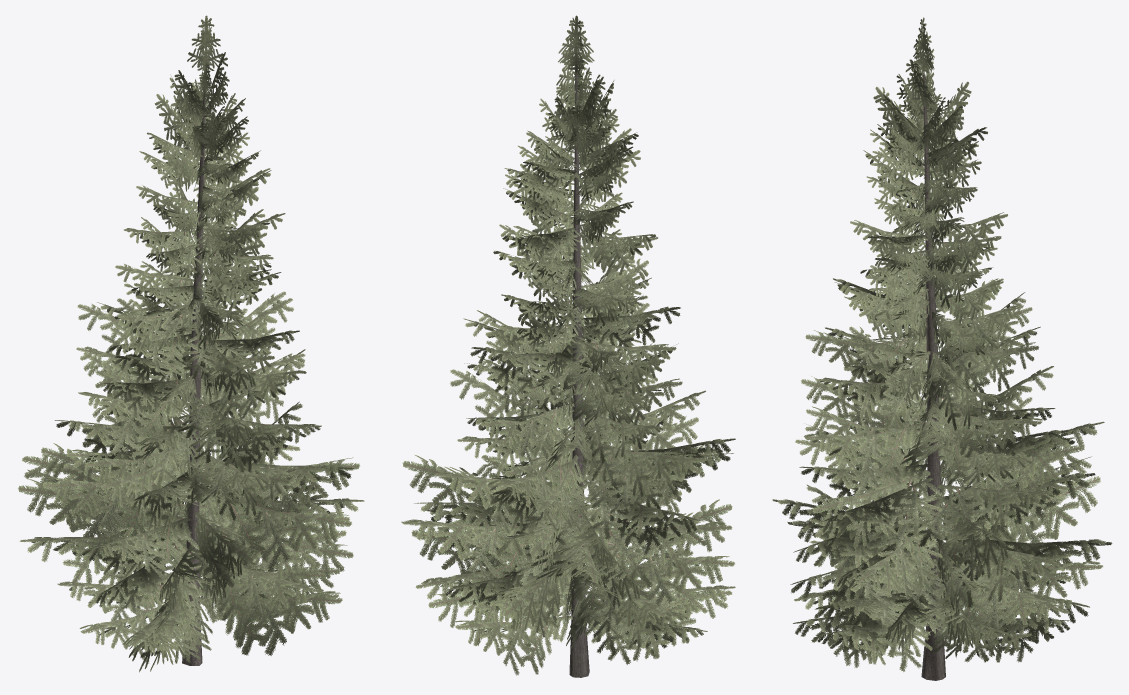
Rendered from Picea_Abies_Autumn_Young.glb.
3 views of the same model, side by side, from view 1: azimuth 30°, elevation 25°; view 2: azimuth 150°, elevation 25°; view 3: azimuth 270°, elevation 25° (orthographic). The views are drawn at different scales.
Parts seen in each view (by area): view 1: Picea_Abies_Autumn_Young__LOD3; view 2: Picea_Abies_Autumn_Young__LOD3; view 3: Picea_Abies_Autumn_Young__LOD3.
Part boxes in pixels (x1,y1,x2,y2): Picea_Abies_Autumn_Young__LOD3: (18, 15, 364, 672); Picea_Abies_Autumn_Young__LOD3: (401, 15, 735, 677); Picea_Abies_Autumn_Young__LOD3: (772, 17, 1112, 680).
Size of the model in its own units: 7.7 by 16.5 by 7.75.
Materials: 2 (2 with a texture image).
